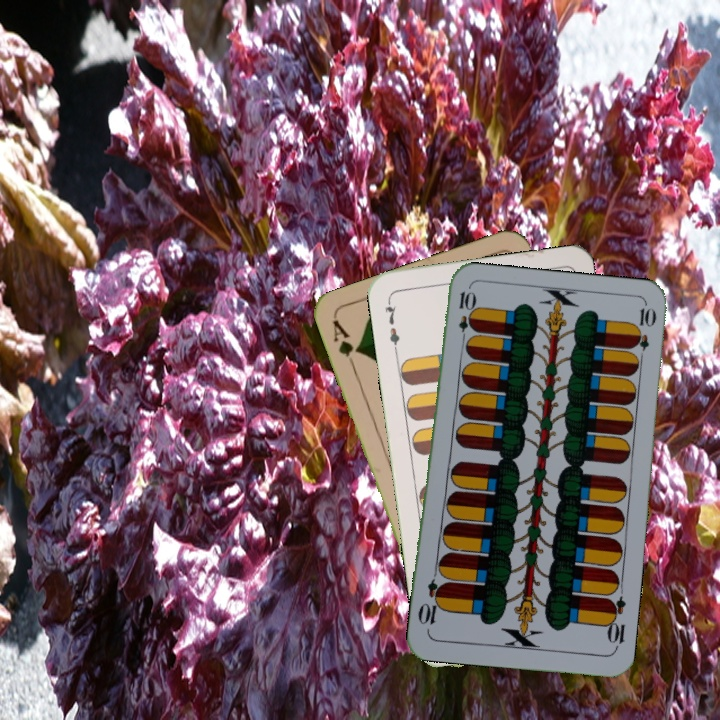E10: (602, 593, 628, 652), (454, 287, 475, 346)
E7: (380, 295, 403, 354)
GA: (329, 315, 362, 372)
